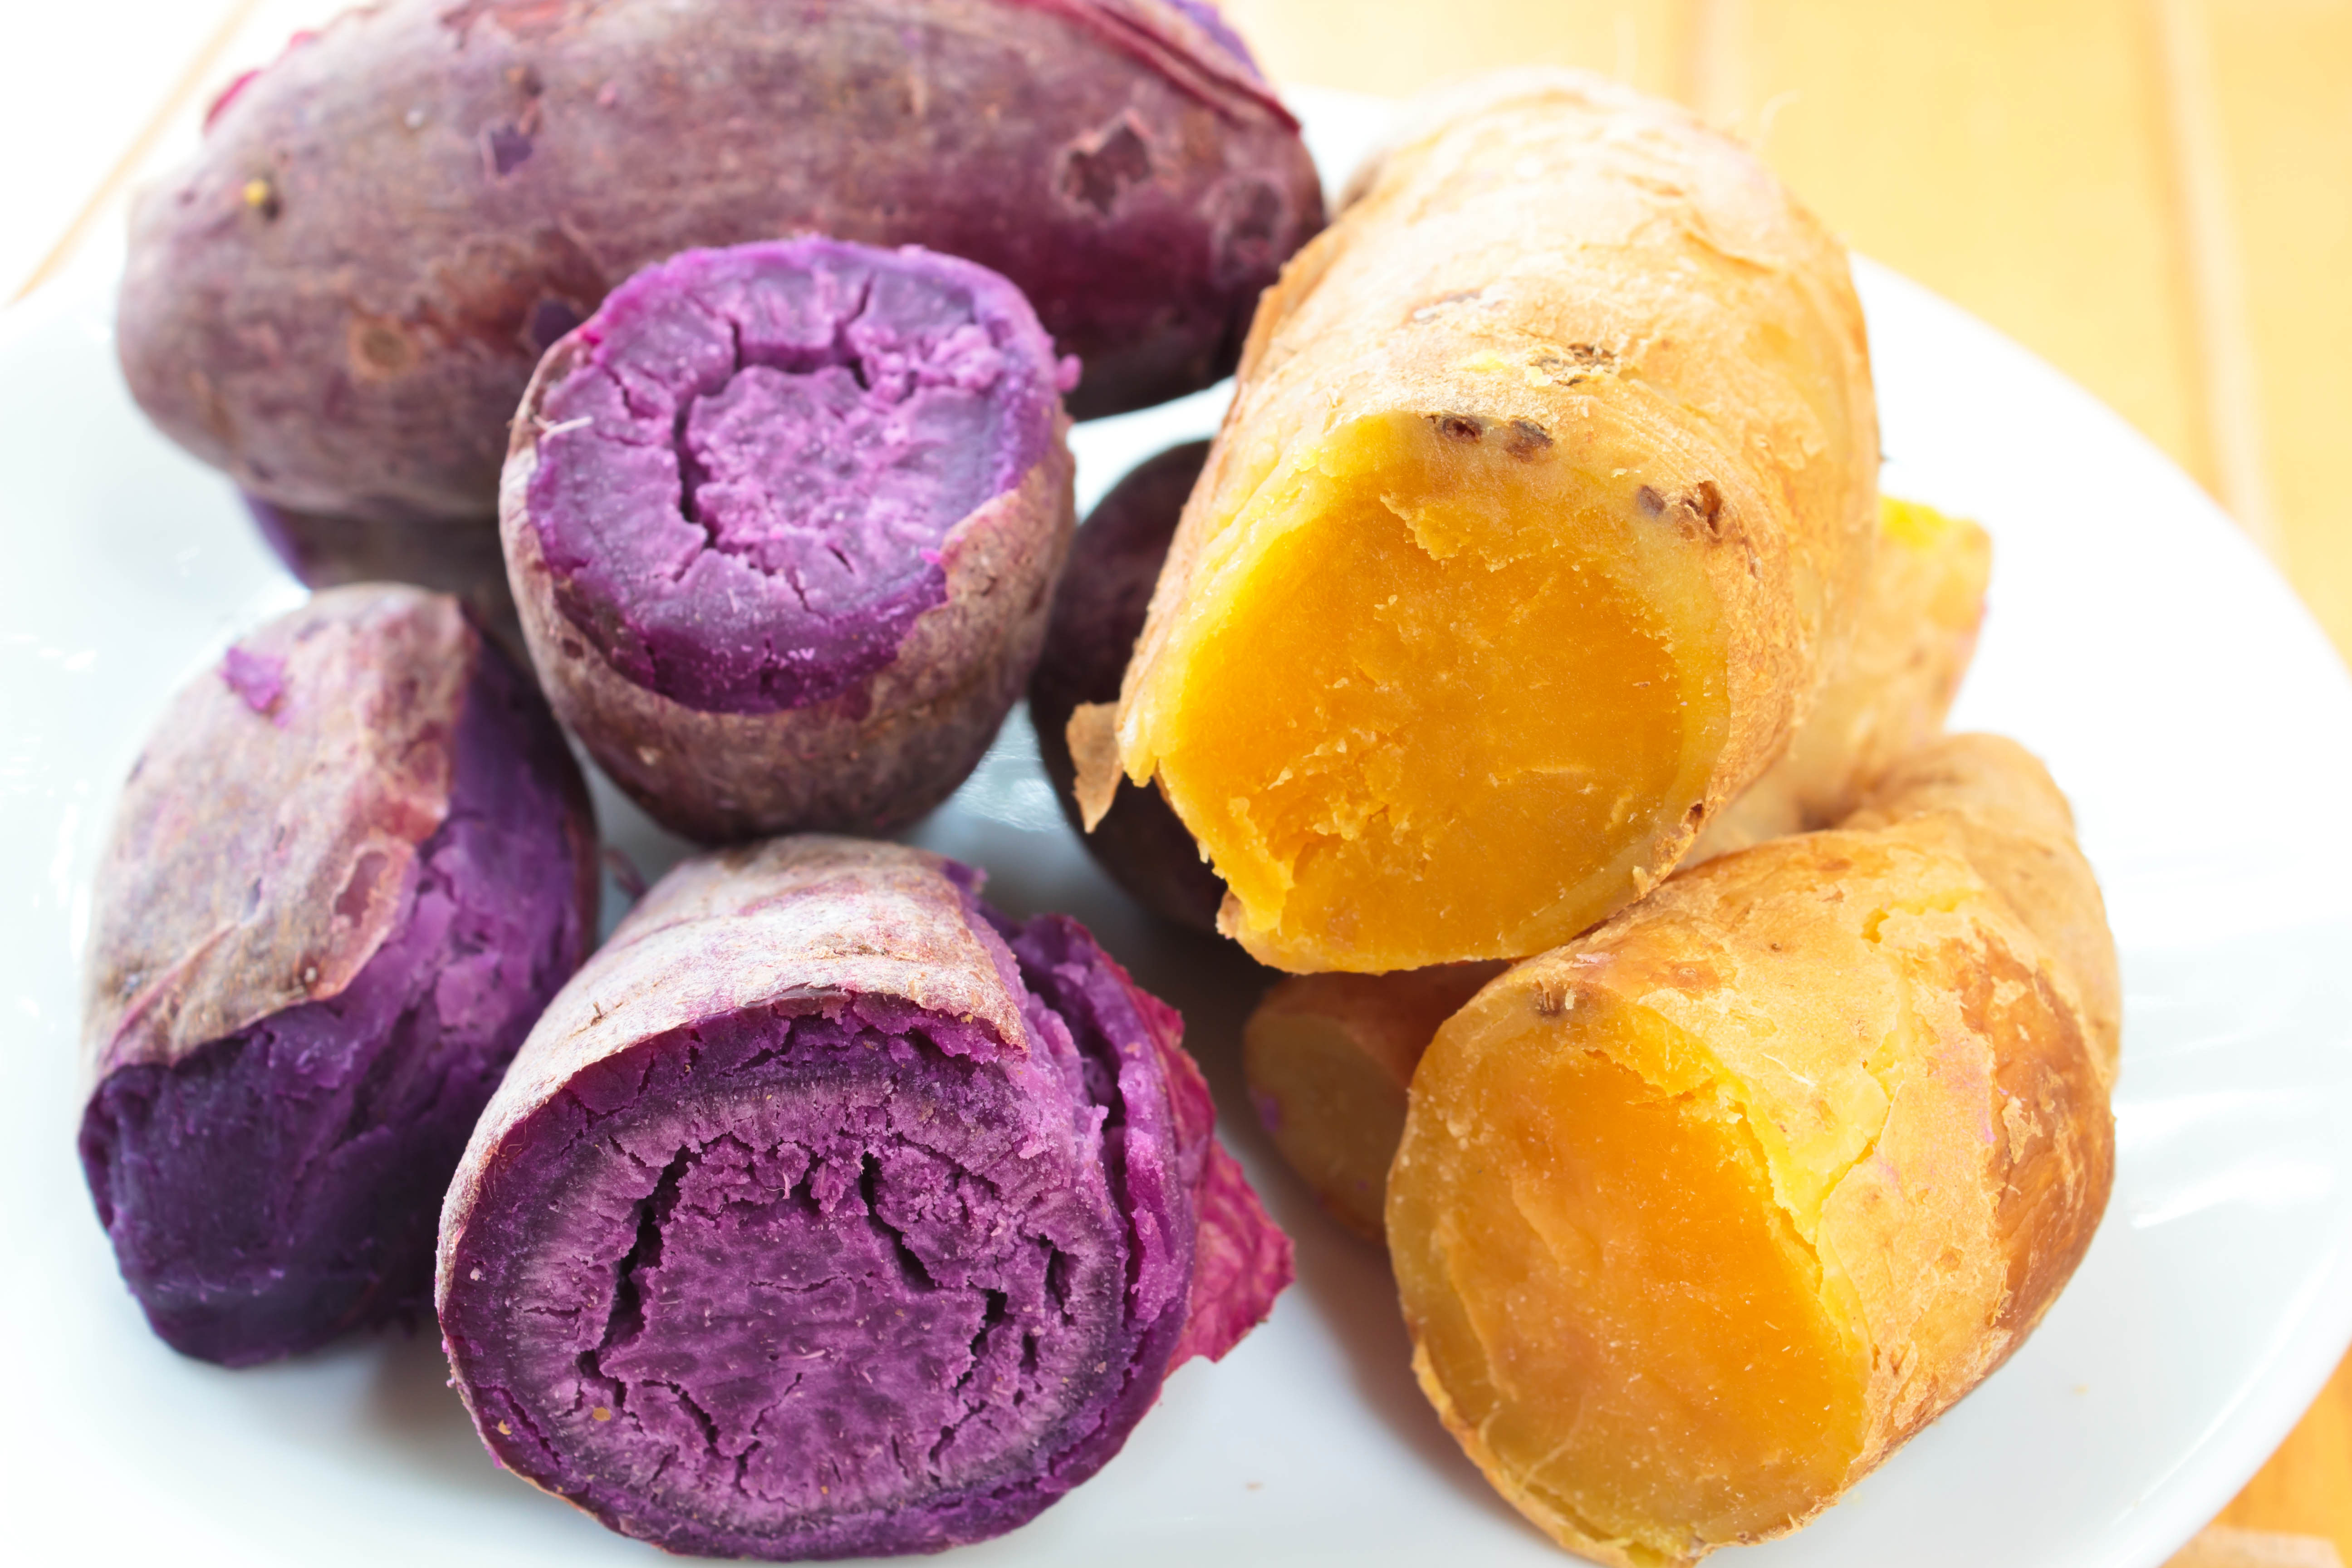boiled potatoes: (1209, 112, 1852, 978), (1407, 753, 2070, 1524)
